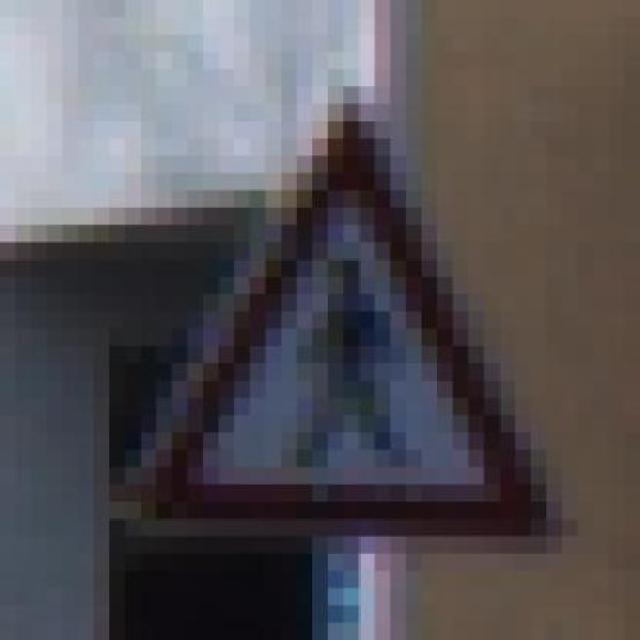Pedestrian Crossing: (108, 69, 578, 571)
